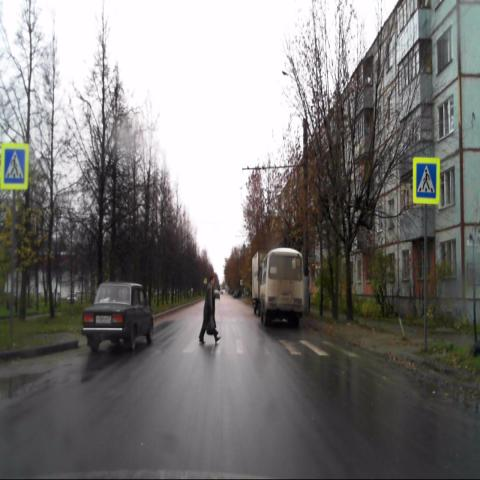5_19_1: (0, 143, 28, 189), (414, 157, 440, 204)
